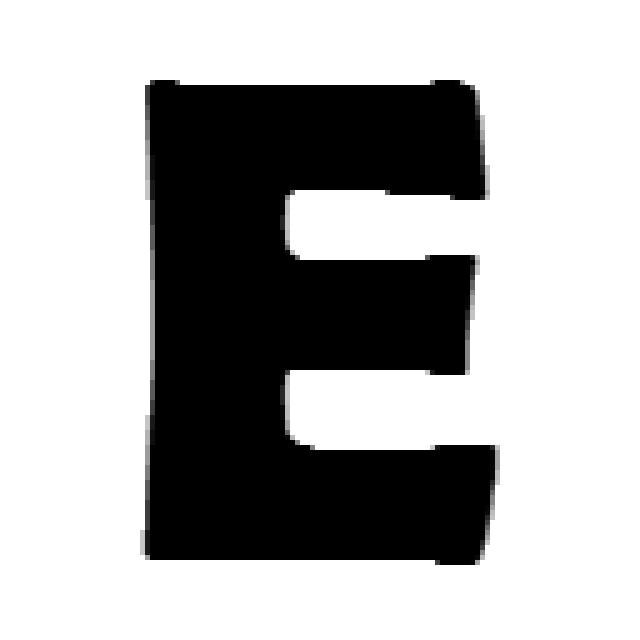E: (145, 80, 500, 565)
